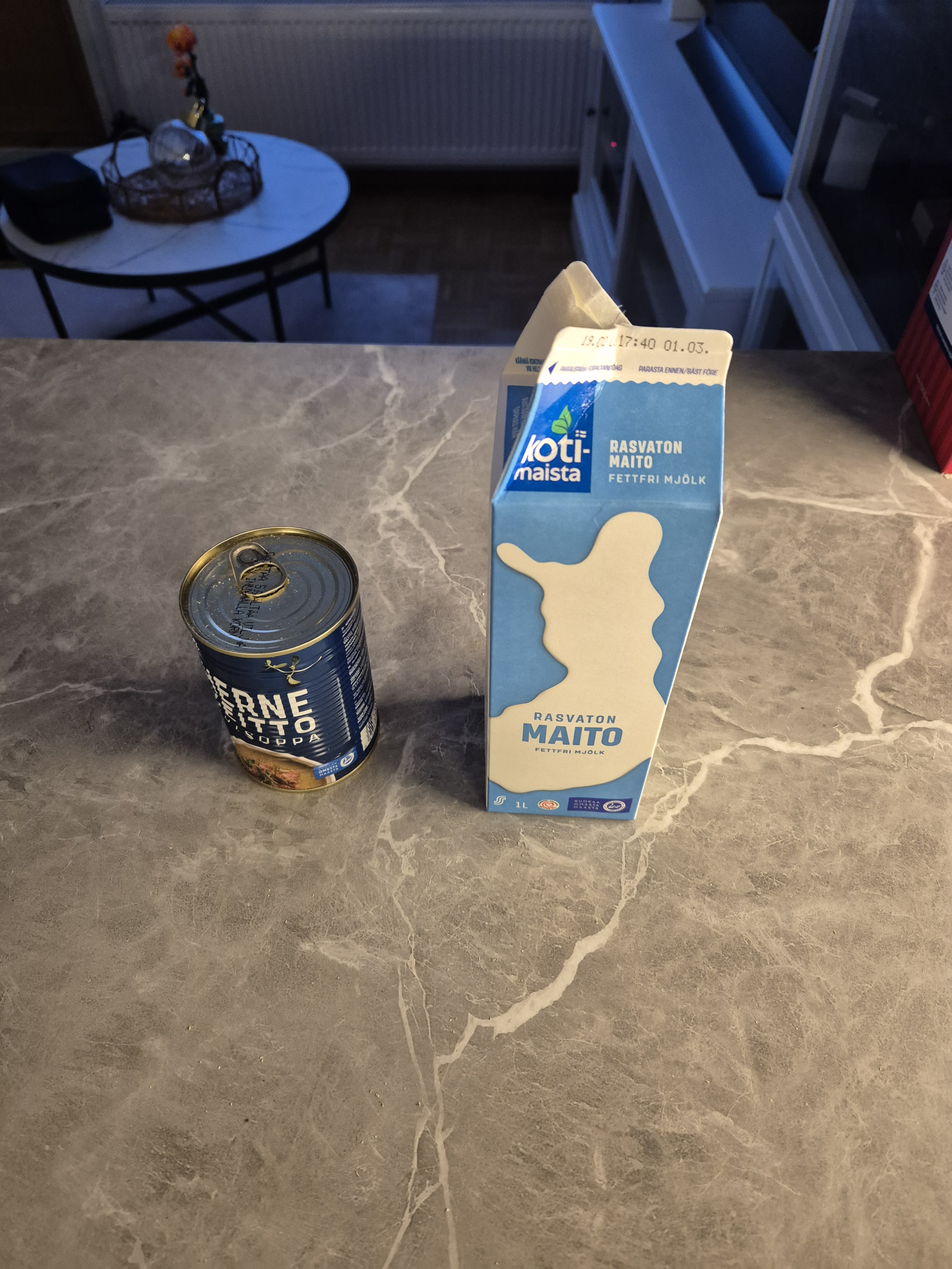Dryckeskartong: (484, 260, 737, 824)
Konservburk: (179, 525, 382, 795)
